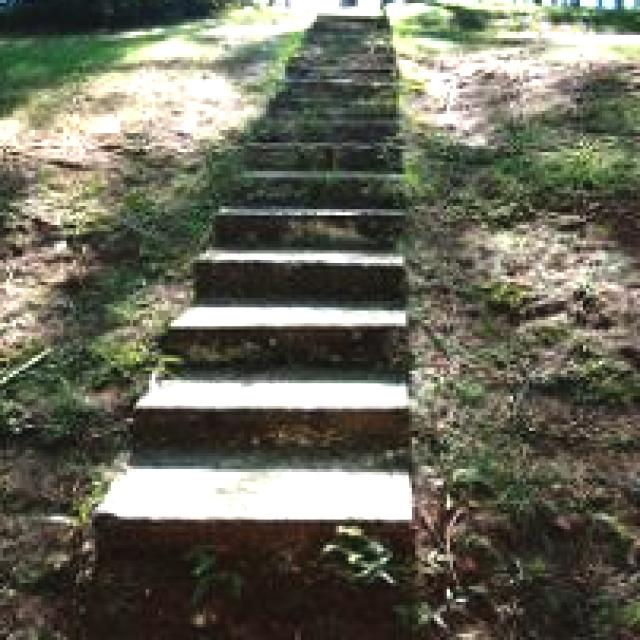upstair: (55, 182, 489, 540)
